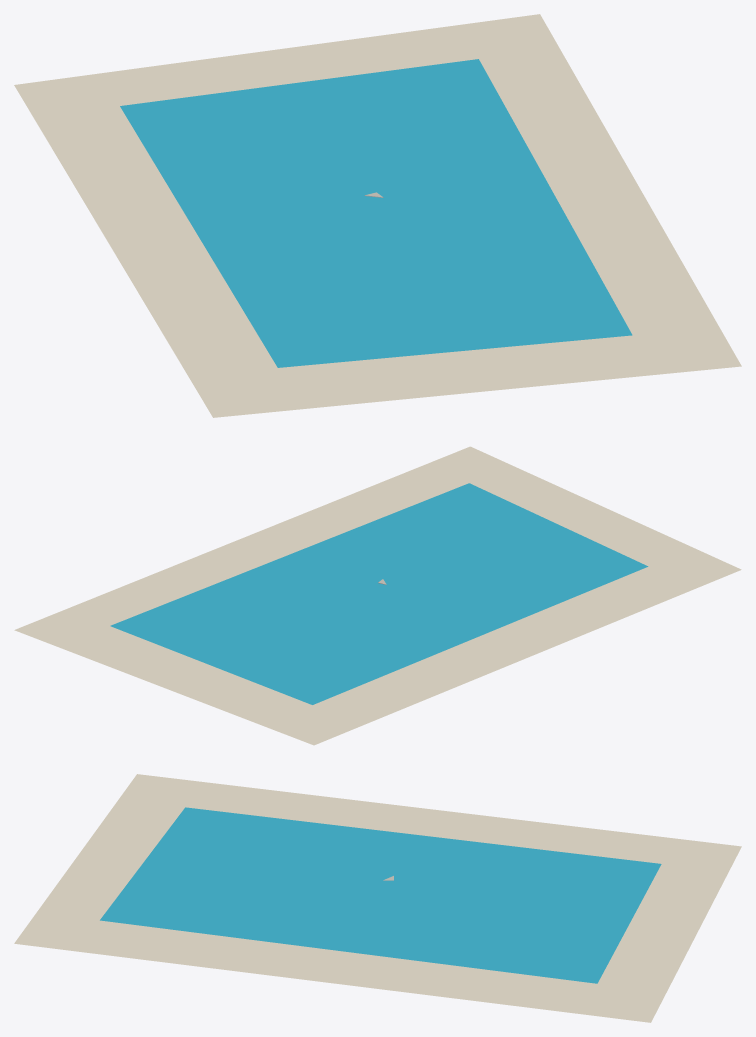
File: pbpool_m21_m11.glb
The picture shows the model from 3 angles, top to bottom: view 1: azimuth 30°, elevation 25°; view 2: azimuth 150°, elevation 25°; view 3: azimuth 270°, elevation 25°; orthographic projection. The views are drawn at different scales.
Visible parts, largest first — view 1: pbpool_m21_m11_lod0; view 2: pbpool_m21_m11_lod0; view 3: pbpool_m21_m11_lod0.
Part boxes in pixels (x1,y1,x2,y2): pbpool_m21_m11_lod0: [14, 14, 741, 417]; pbpool_m21_m11_lod0: [14, 446, 741, 745]; pbpool_m21_m11_lod0: [14, 774, 741, 1022].
Size of what is drawn, in the model's own units: 11 by 0.3769 by 13.6.
